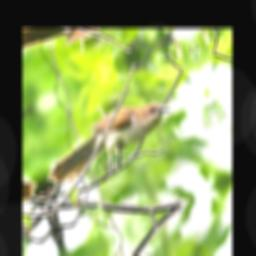Cuckoo: (38, 84, 180, 208)
